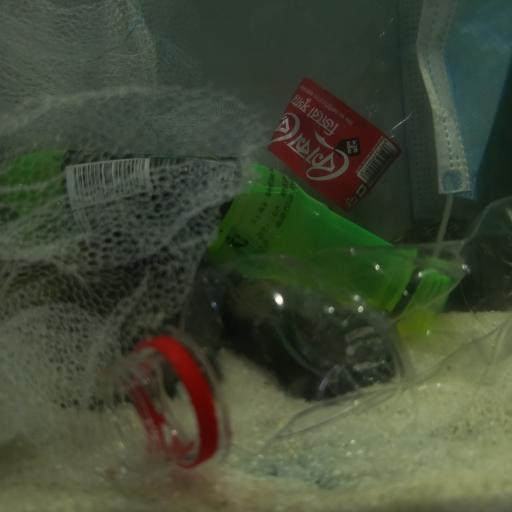mask: (408, 0, 512, 224)
net: (1, 2, 274, 471)
plastic_bottle: (108, 203, 512, 464), (0, 147, 448, 340), (267, 12, 420, 212)
